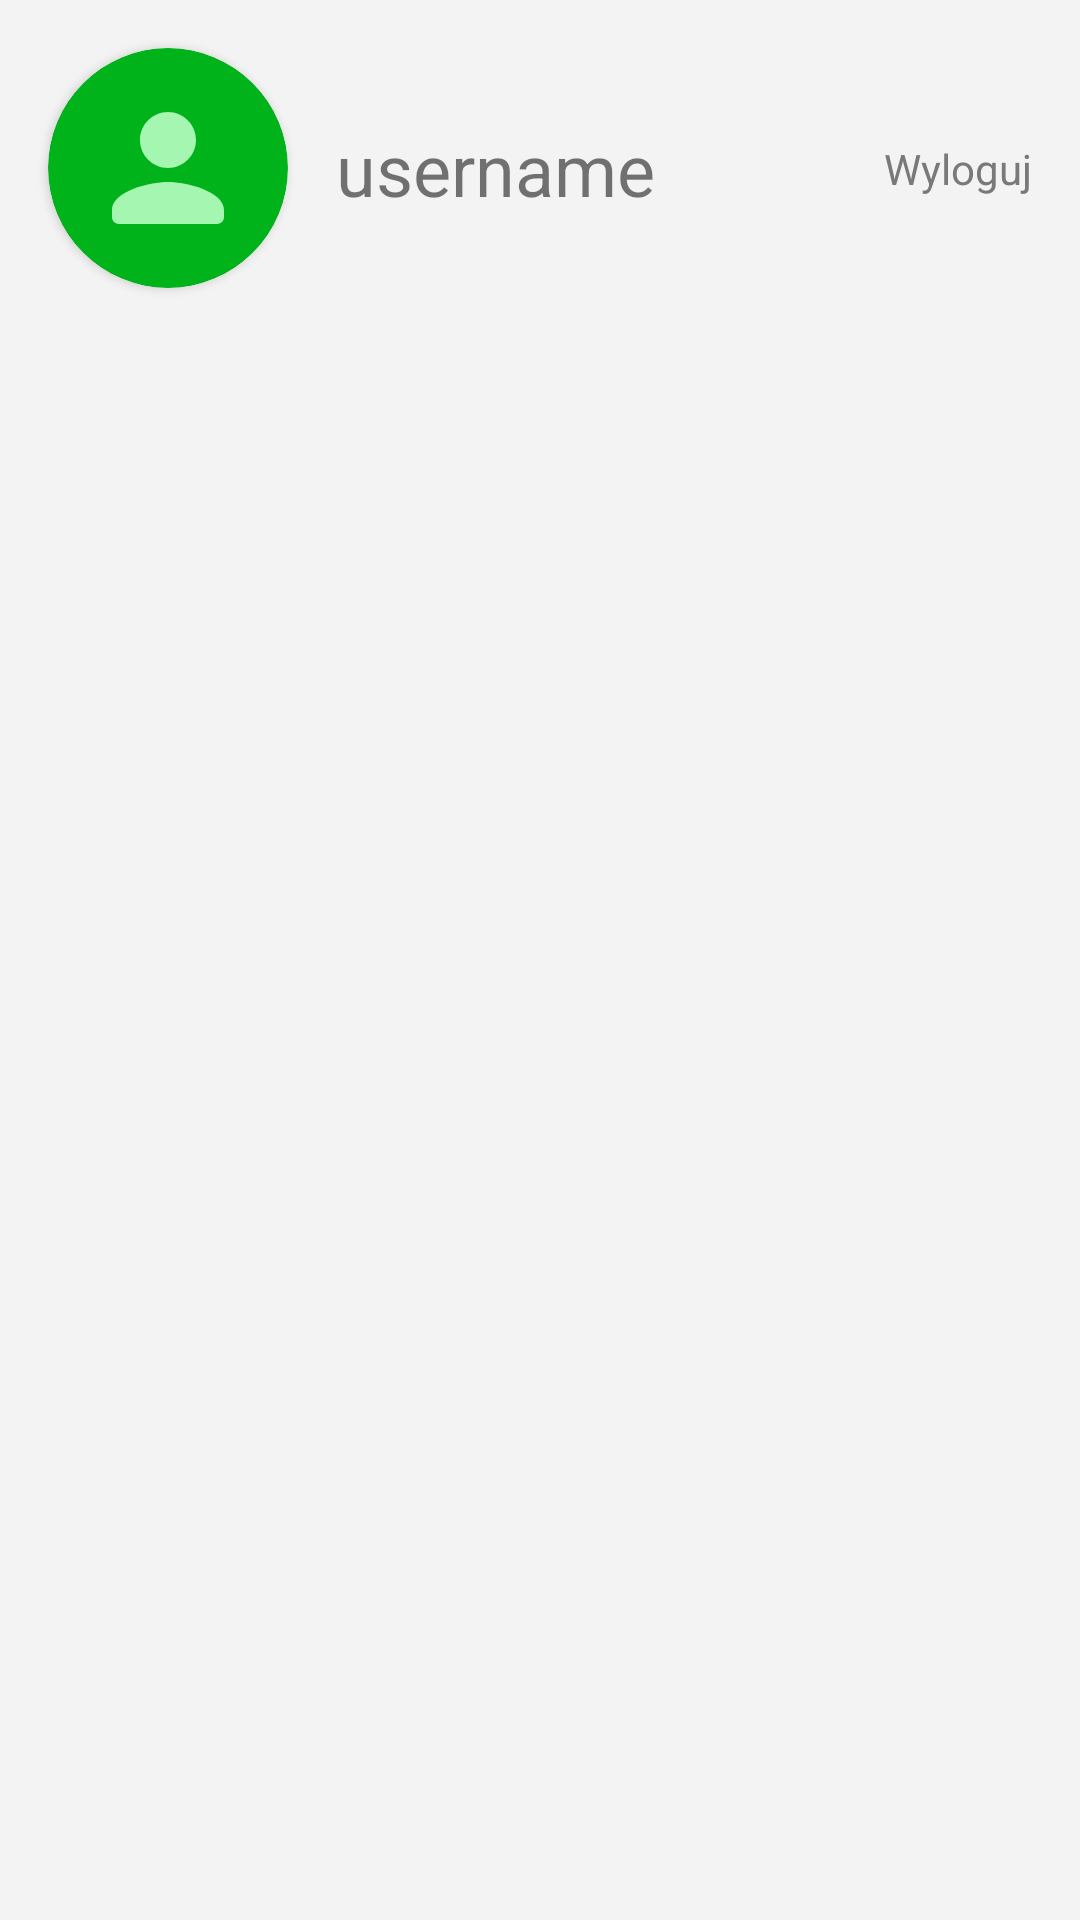

Where icons sit on this 1080 × 1920 app screen, as (x1, y1, x2, y2):
person: (48, 48, 288, 288)
